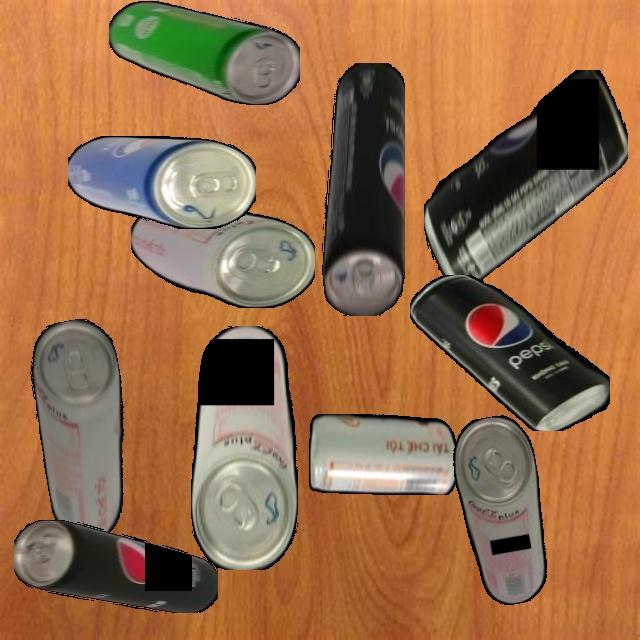debris: (423, 69, 628, 288), (410, 274, 610, 431), (21, 314, 147, 545), (190, 325, 298, 570), (446, 411, 559, 610), (321, 62, 405, 316), (108, 1, 300, 105), (130, 204, 315, 308), (14, 519, 218, 613), (67, 136, 256, 229), (308, 413, 457, 495)
